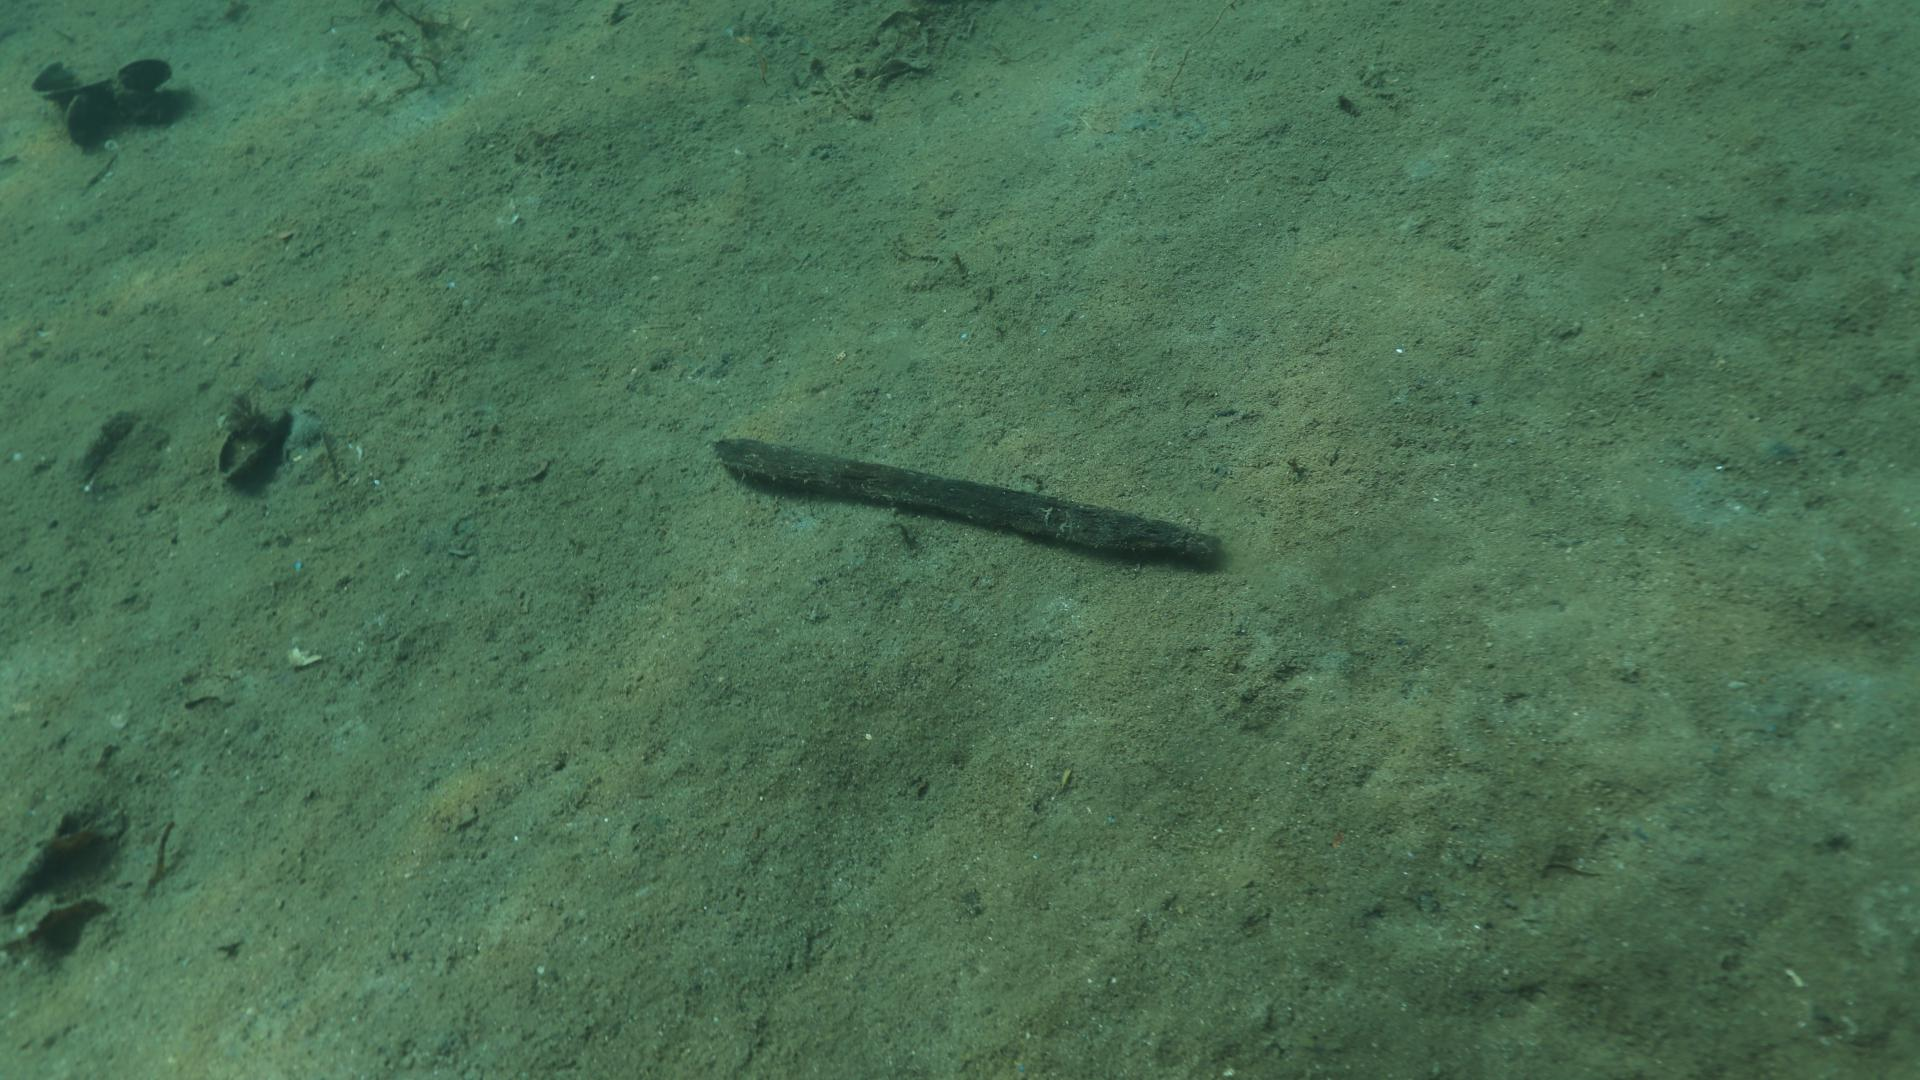wood: (711, 435, 1225, 560)
